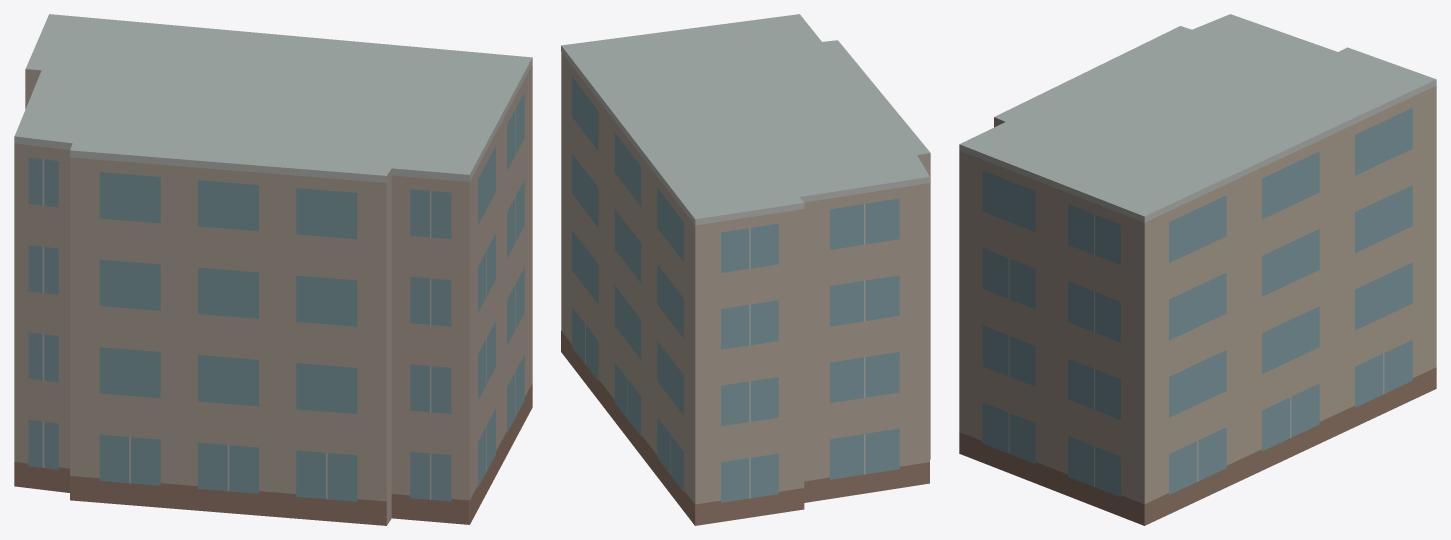
Rendered from survey-upis-32590173.glb.
3 views of the same model, side by side, from view 1: azimuth 30°, elevation 25°; view 2: azimuth 150°, elevation 25°; view 3: azimuth 270°, elevation 25° (orthographic). The views are drawn at different scales.
Visible parts, largest first — view 1: survey-upis-32590173.tmp; view 2: survey-upis-32590173.tmp; view 3: survey-upis-32590173.tmp.
Boxes of the visible parts, x1,y1,x2,y2 form: survey-upis-32590173.tmp: [14, 14, 532, 525]; survey-upis-32590173.tmp: [561, 14, 930, 525]; survey-upis-32590173.tmp: [959, 14, 1436, 525].
Size of the model in its own units: 17.14 by 12.2 by 17.07.
